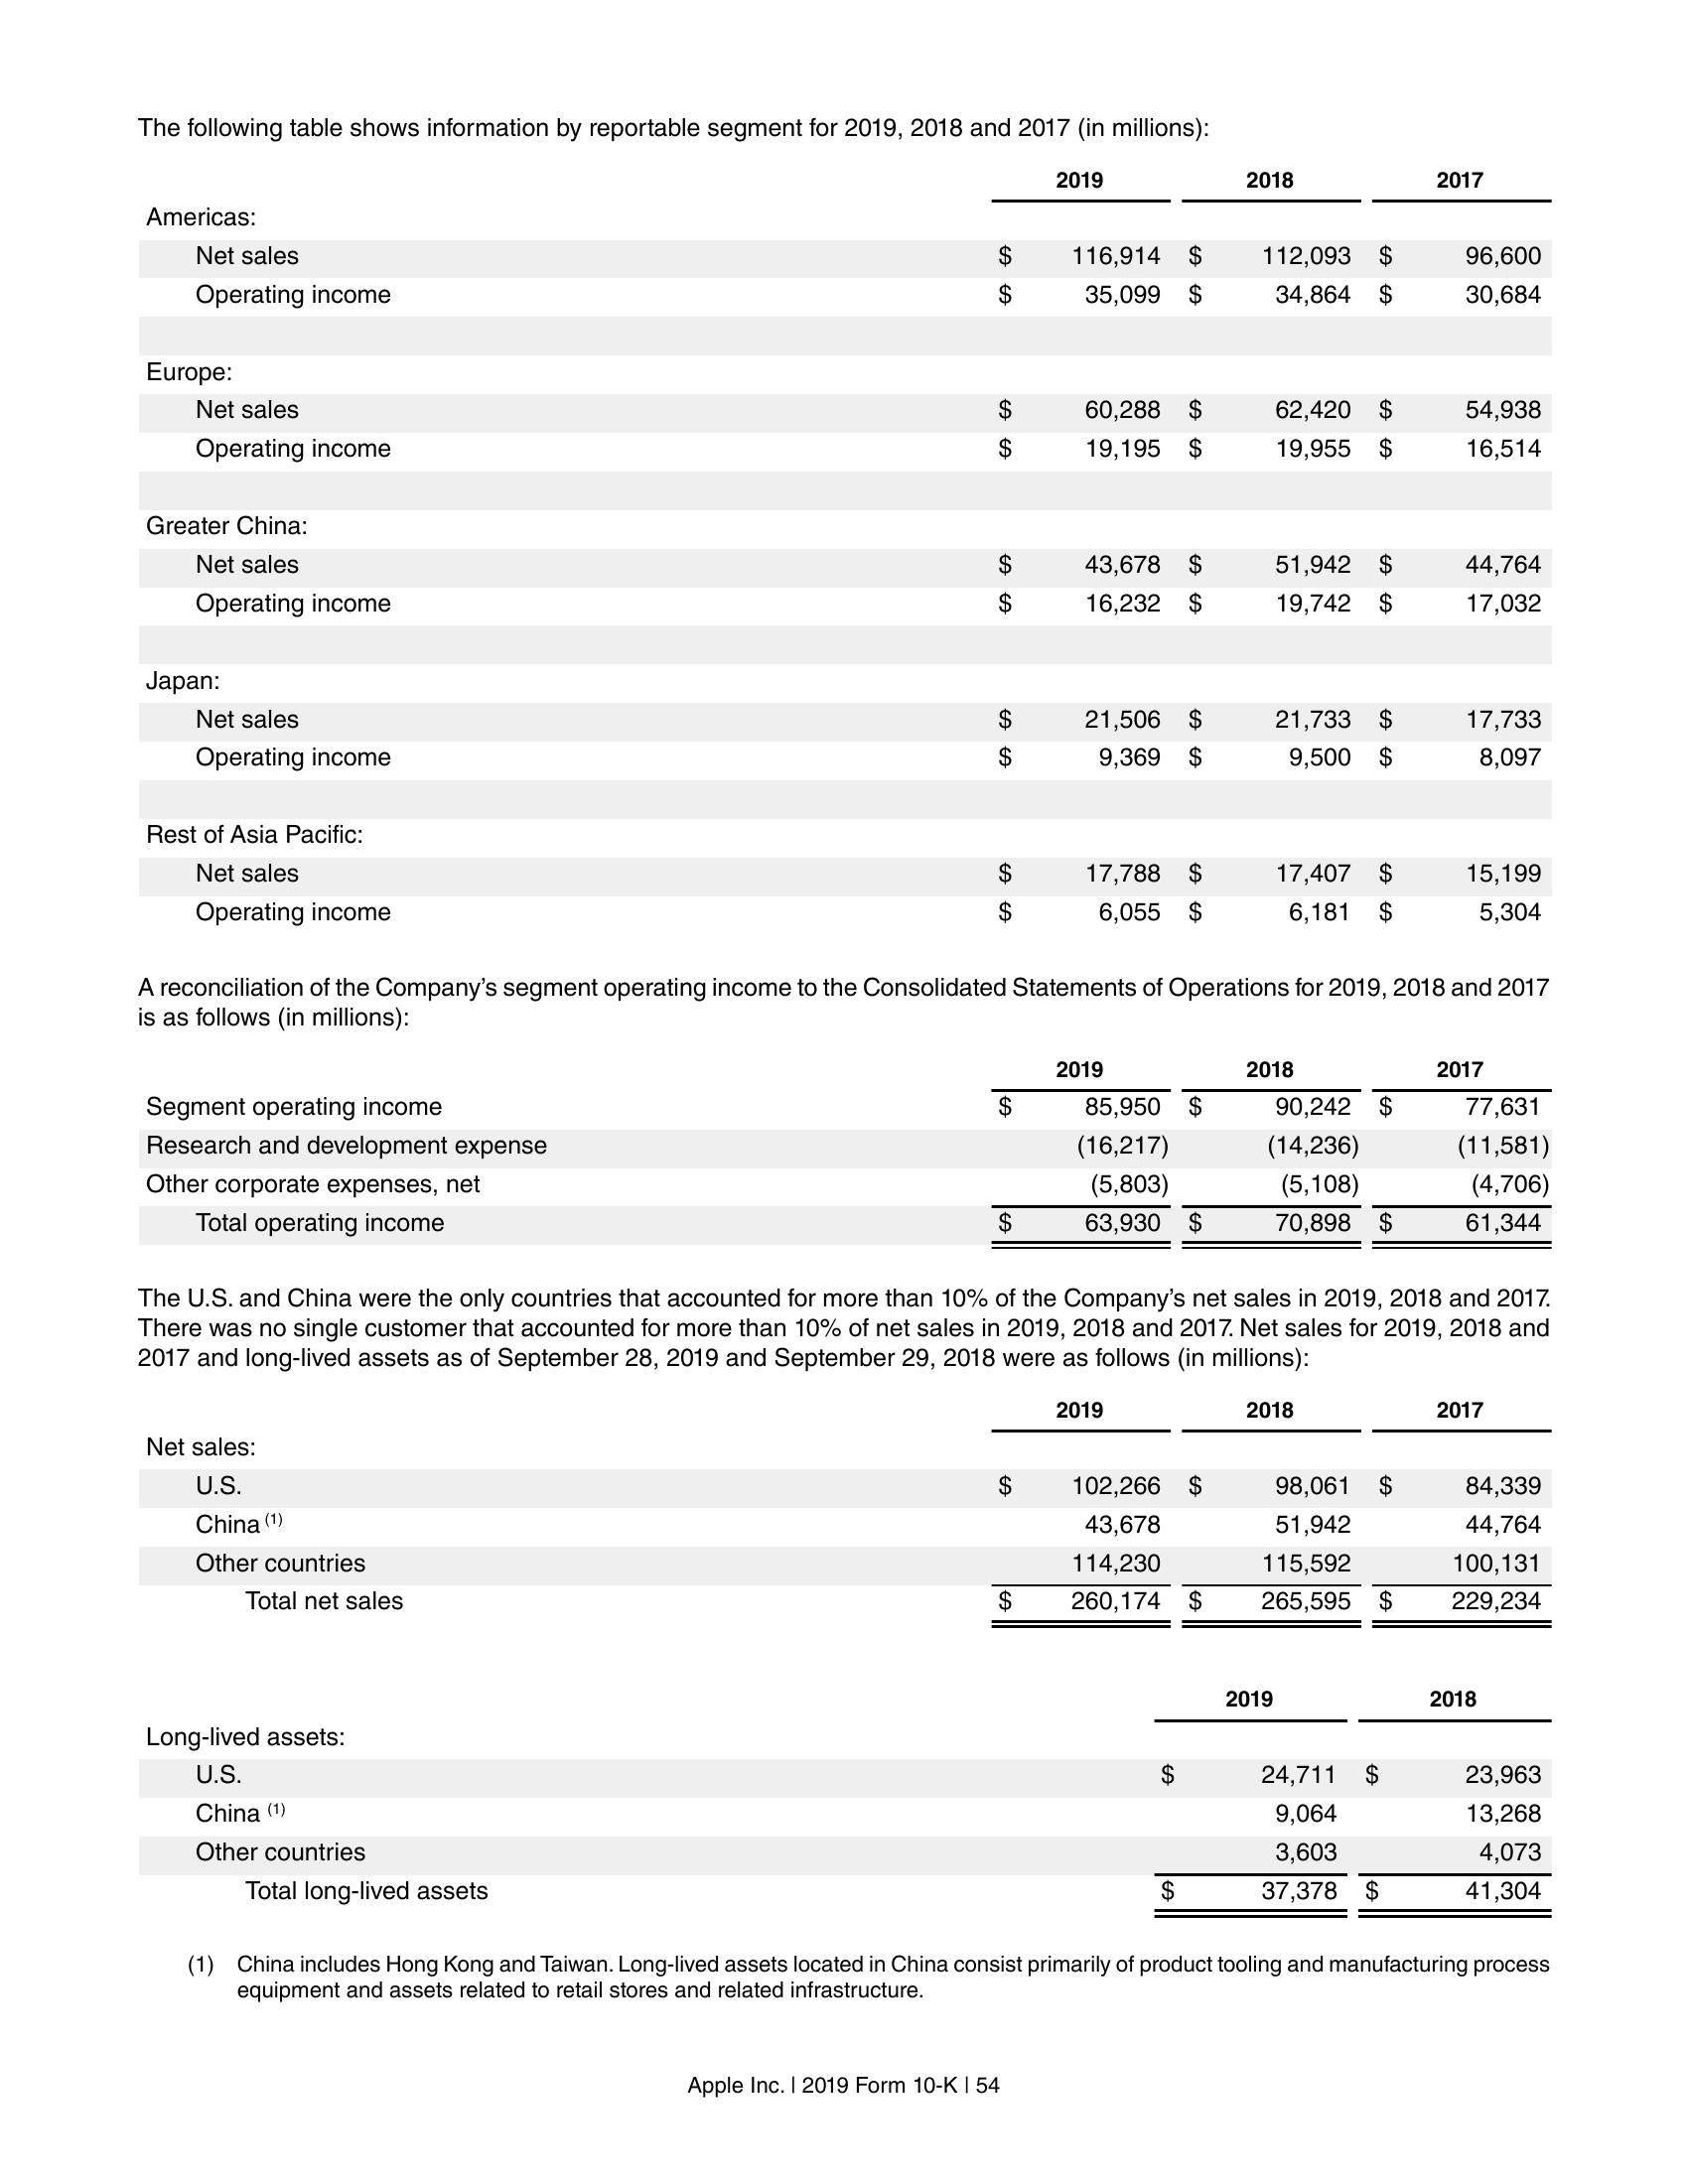table: (135, 167, 1553, 927), (135, 1686, 1557, 1927), (138, 1397, 1553, 1634), (142, 1053, 1553, 1255)
